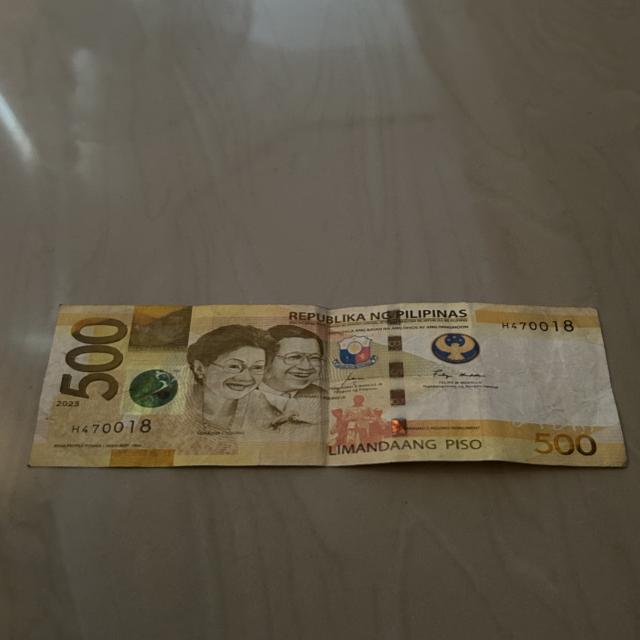concealed_value: (130, 304, 185, 351)
optically_variable_device: (127, 370, 179, 410)
serial_number: (488, 304, 593, 340), (59, 411, 158, 442)
